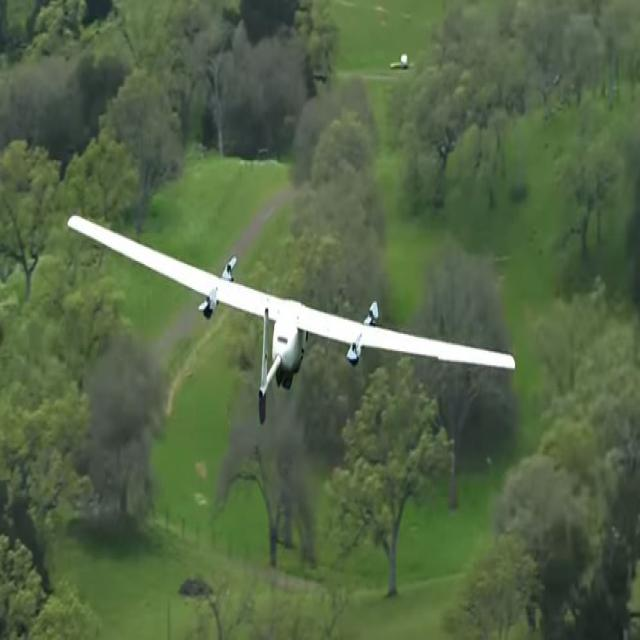iha: (68, 210, 516, 424)
